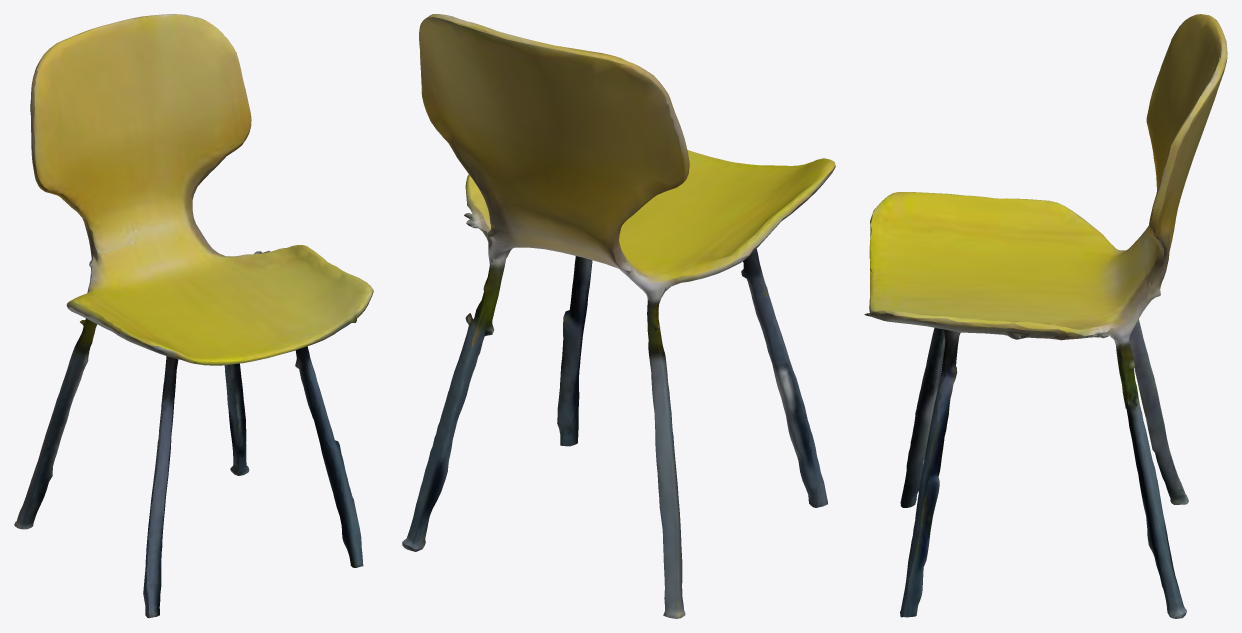
3 renders of one model, left to right at view 1: azimuth 30°, elevation 25°; view 2: azimuth 150°, elevation 25°; view 3: azimuth 270°, elevation 25°, orthographic. The views are drawn at different scales.
Visible parts, largest first — view 1: world; view 2: world; view 3: world.
Part boxes in pixels (x1,y1,x2,y2): world: [14, 14, 373, 618]; world: [402, 14, 835, 618]; world: [864, 14, 1227, 618].
Size of the model in its own units: 0.2707 by 0.5065 by 0.3248.
1 material, 1 textured.
